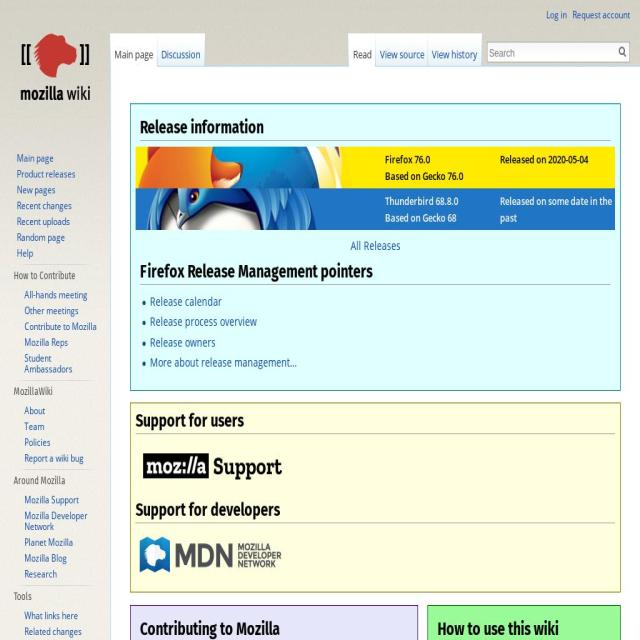button: (428, 34, 482, 68), (376, 34, 428, 68), (110, 34, 158, 68), (157, 34, 205, 68), (349, 34, 376, 68)
field: (486, 44, 616, 62), (616, 42, 630, 62)
heading: (0, 10, 116, 640), (140, 264, 372, 282), (140, 620, 280, 639), (135, 502, 280, 520), (140, 119, 264, 138), (437, 620, 559, 639), (135, 412, 244, 431), (14, 270, 99, 284), (14, 386, 99, 400), (14, 475, 99, 489), (14, 591, 99, 605)
image: (5, 0, 105, 133), (135, 147, 355, 189), (135, 440, 291, 494), (135, 188, 323, 231), (135, 529, 286, 580)
link: (149, 353, 297, 370), (149, 313, 257, 330), (24, 508, 88, 534), (24, 351, 74, 376), (149, 293, 222, 309), (150, 333, 216, 350), (24, 319, 98, 333), (24, 288, 88, 302), (24, 451, 84, 465), (24, 492, 80, 507), (17, 167, 76, 181), (350, 238, 401, 254), (572, 8, 630, 22), (24, 624, 82, 638), (24, 304, 80, 318), (17, 198, 72, 212), (24, 608, 79, 622), (17, 214, 71, 228), (16, 230, 66, 244), (24, 535, 74, 549), (24, 335, 69, 349), (24, 551, 68, 565), (17, 182, 56, 196), (17, 151, 54, 165), (24, 567, 58, 581), (24, 435, 52, 449), (24, 403, 46, 418), (546, 8, 567, 22), (24, 419, 45, 433), (17, 246, 34, 260)
text: (500, 188, 616, 231), (500, 147, 616, 189), (384, 168, 464, 184), (384, 193, 458, 209), (384, 210, 456, 226), (384, 152, 430, 168)
